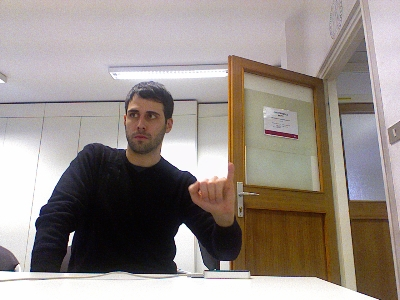小指: (187, 162, 236, 217)
